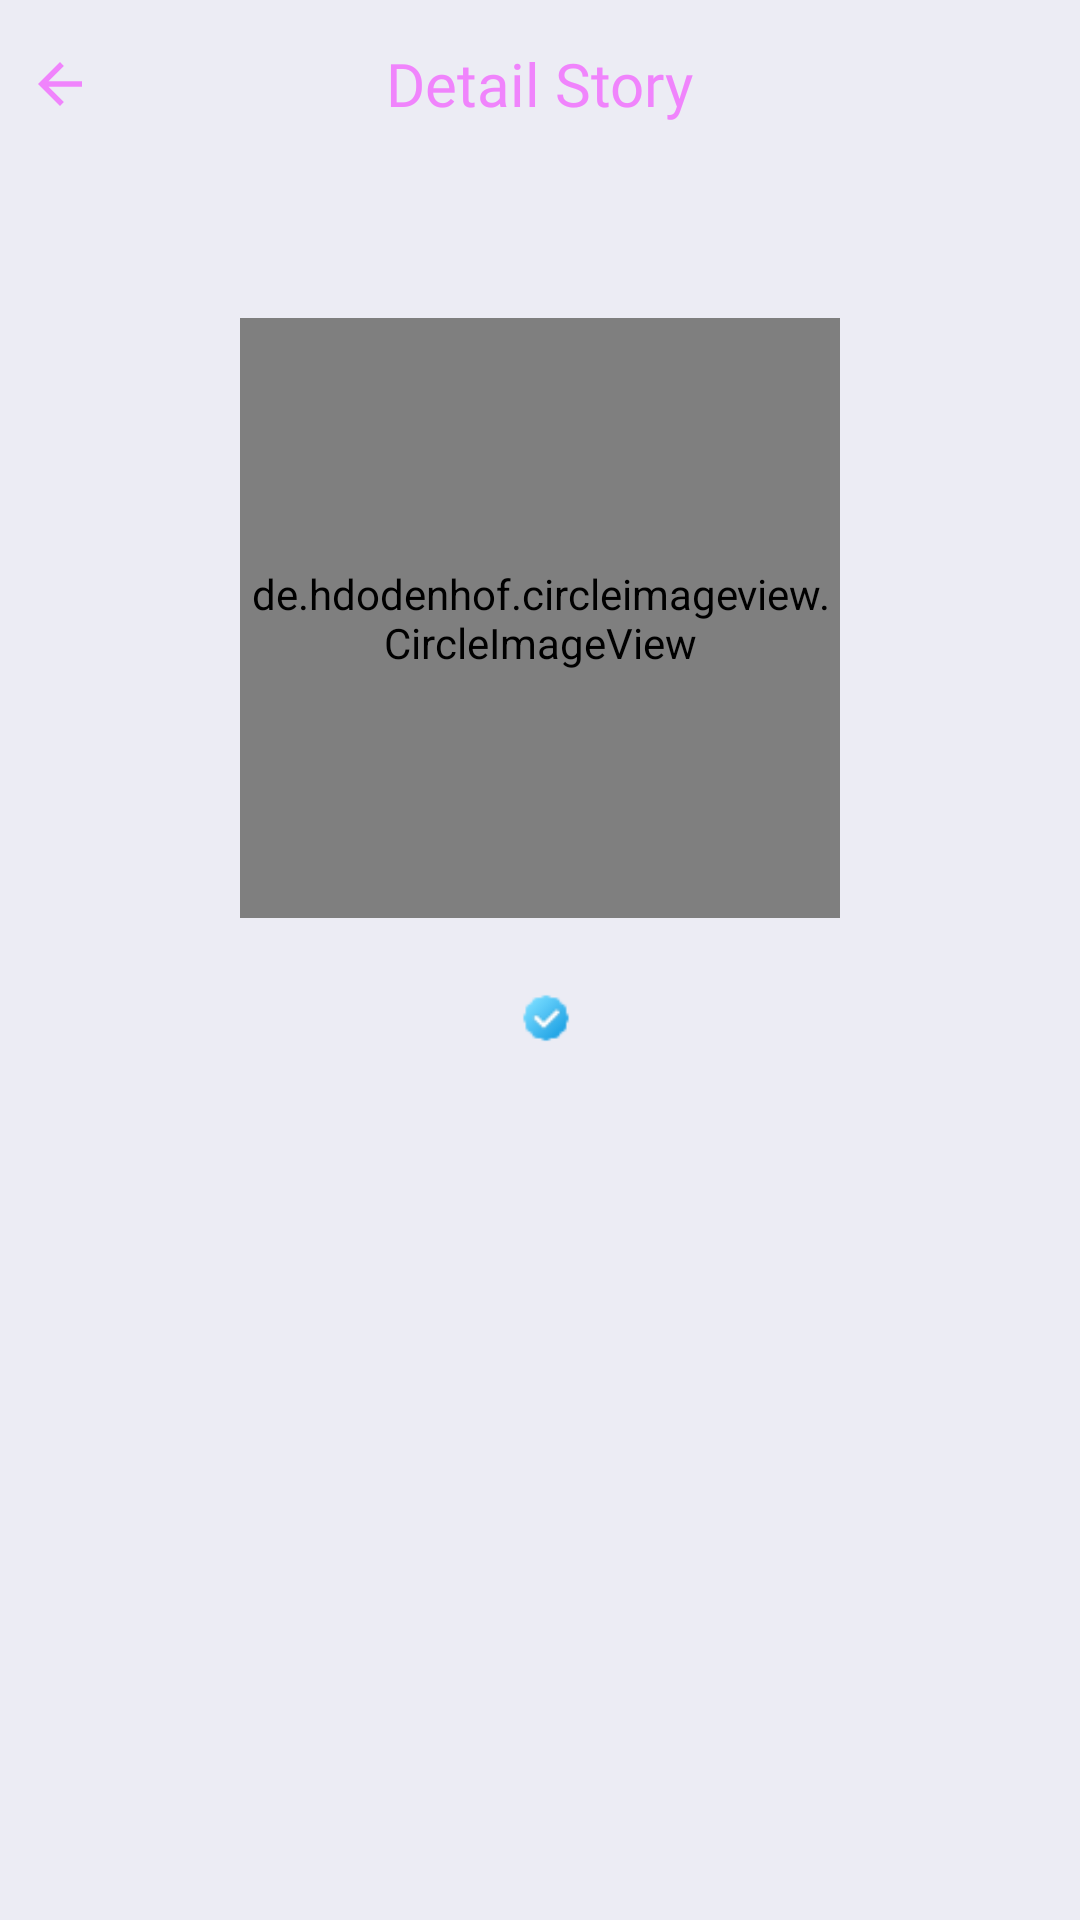

Screen size 1080px×1920px. Icon name, then its center in pixels as (x=x, y=y):
arrow back: (x=60, y=84)
verified: (x=546, y=1018)
